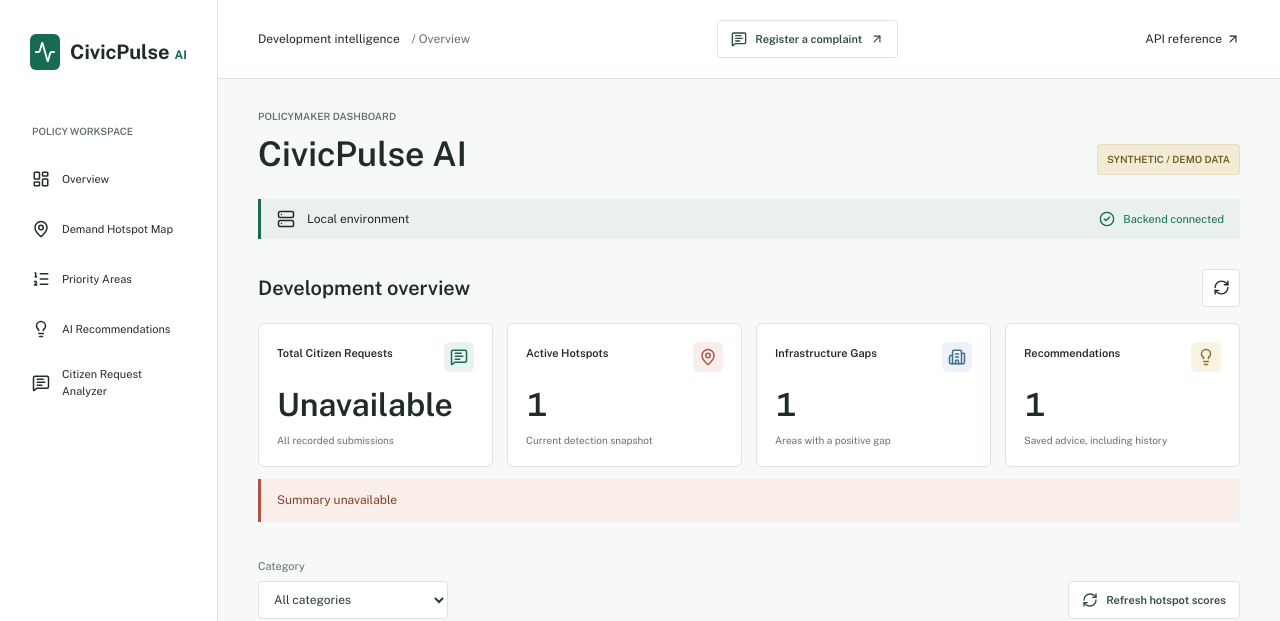
Phase 9 policymaker dashboard › keeps loaded sections available when another API fails and retries reads
The width and height of the screenshot is (1280, 621).
expect the text "Summary unavailable" is shown: met, box 258,479 -> 1240,522
What coordinates should you click on to do the following:
click the button named "Refresh dashboard"
I would click on:
 (1221, 288)
Its box is 1202,269 -> 1240,307.
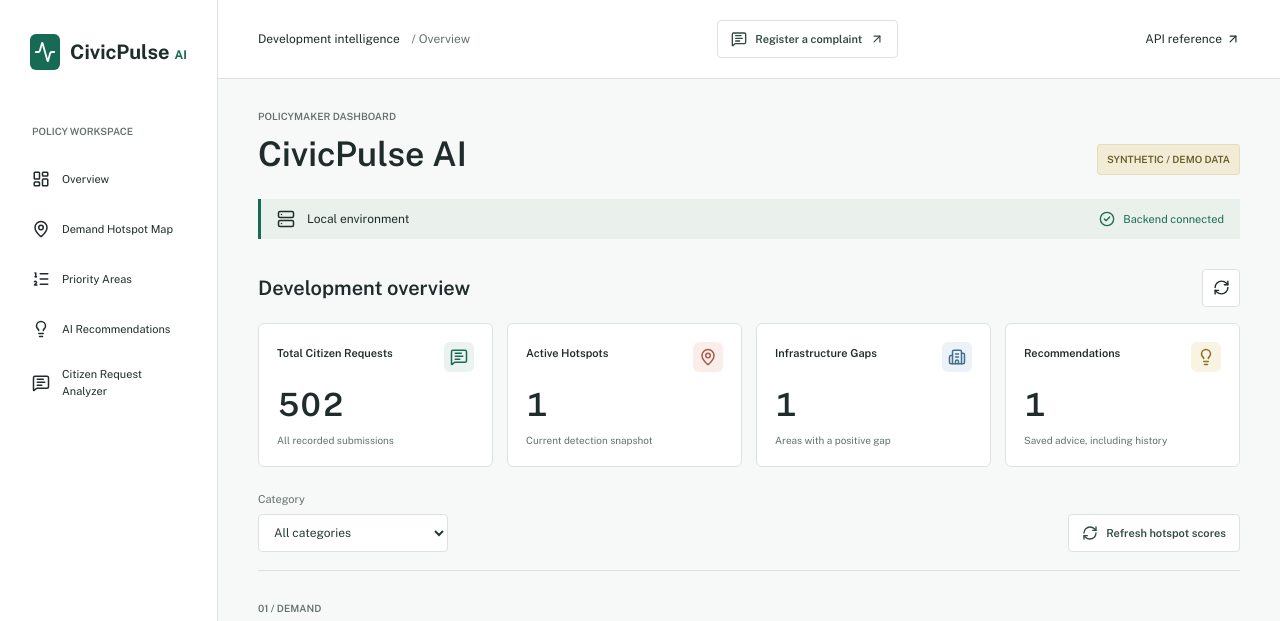
expect the text "502" is shown: met, box 277,386 -> 344,423
